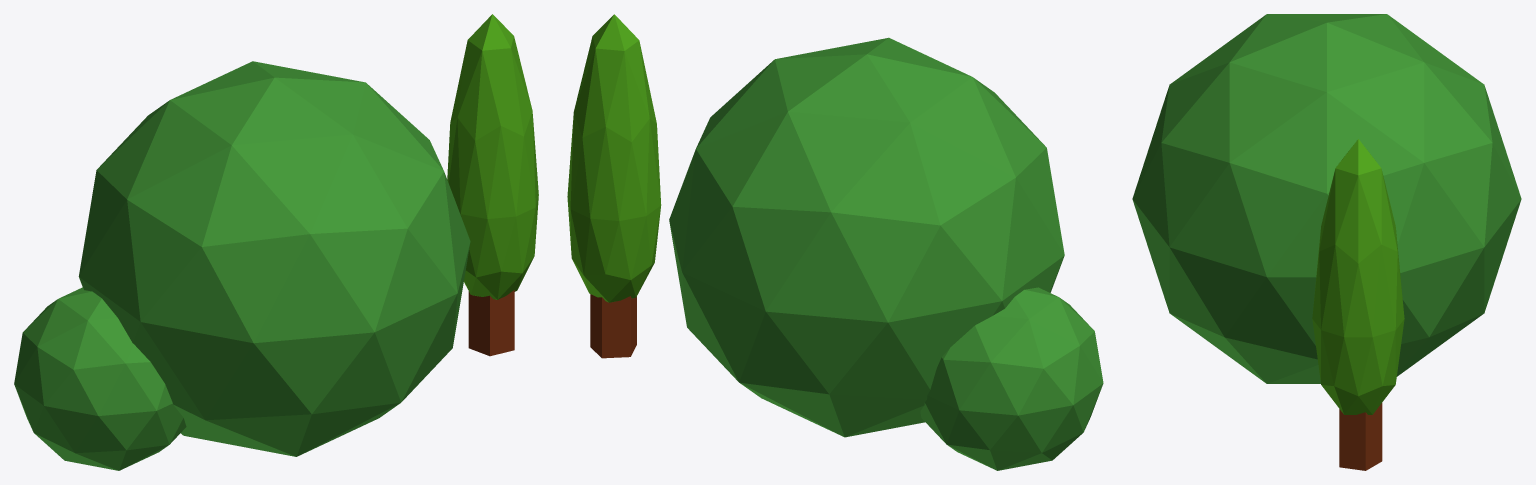
The model's file is comp3_M.gltf.
3 renders of one model, left to right at view 1: azimuth 30°, elevation 25°; view 2: azimuth 150°, elevation 25°; view 3: azimuth 270°, elevation 25°, orthographic. The views are drawn at different scales.
Visible parts, largest first — view 1: Icosphere.028, Icosphere.026; view 2: Icosphere.028, Icosphere.026; view 3: Icosphere.028, Icosphere.026.
Part boxes in pixels (x1,y1,x2,y2): Icosphere.028: [14, 61, 470, 470]; Icosphere.026: [447, 14, 538, 356]; Icosphere.028: [669, 37, 1103, 470]; Icosphere.026: [567, 14, 661, 358]; Icosphere.028: [1132, 14, 1521, 383]; Icosphere.026: [1312, 139, 1404, 470].
Size of the model in its own units: 4.94 by 3.39 by 3.39.
